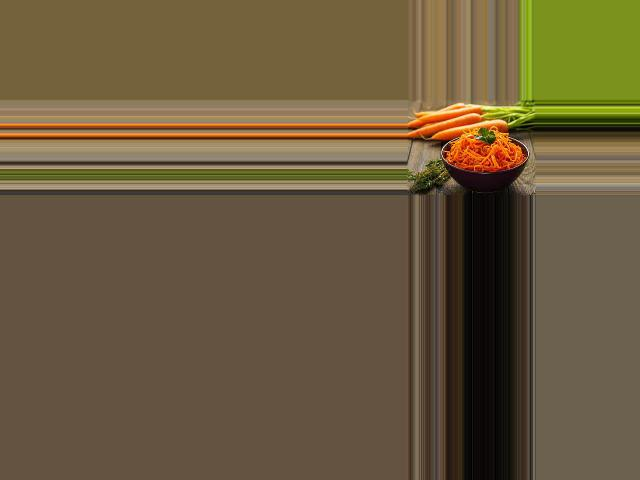carrot: (426, 119, 513, 140)
